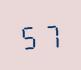five: (19, 21, 39, 50)
seven: (40, 20, 60, 48)
